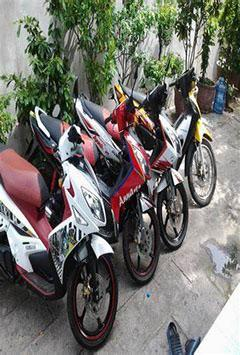motorcycle: (0, 108, 121, 352), (64, 59, 159, 297), (107, 74, 192, 260), (169, 60, 228, 212)
